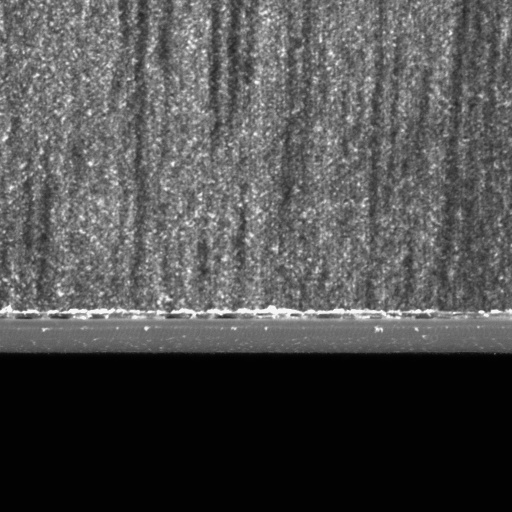jiaofeng: (291, 307, 447, 323), (169, 307, 258, 321), (0, 310, 75, 324)
